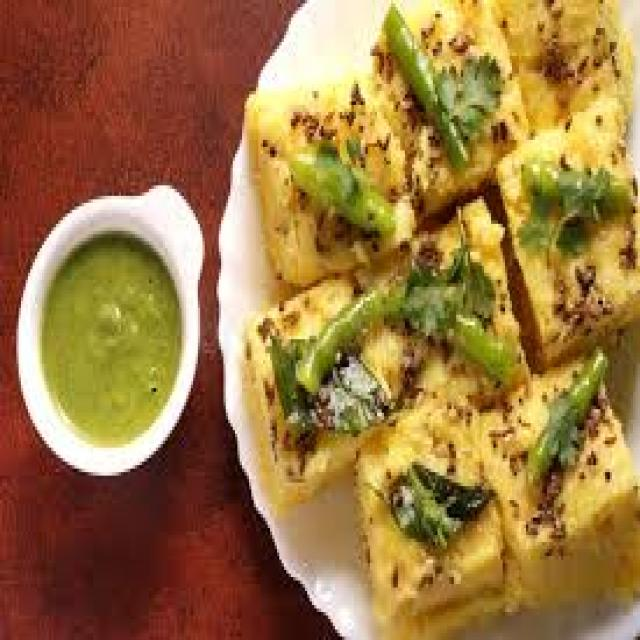DHOKLA: (255, 193, 520, 500), (481, 347, 638, 608), (354, 396, 524, 626), (493, 87, 638, 352), (245, 83, 401, 301), (372, 0, 527, 213), (491, 0, 627, 131)
